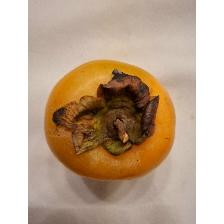Kaki: (42, 56, 178, 184)
